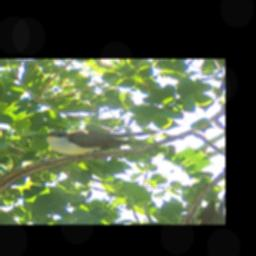Cuckoo: (37, 94, 166, 175)
